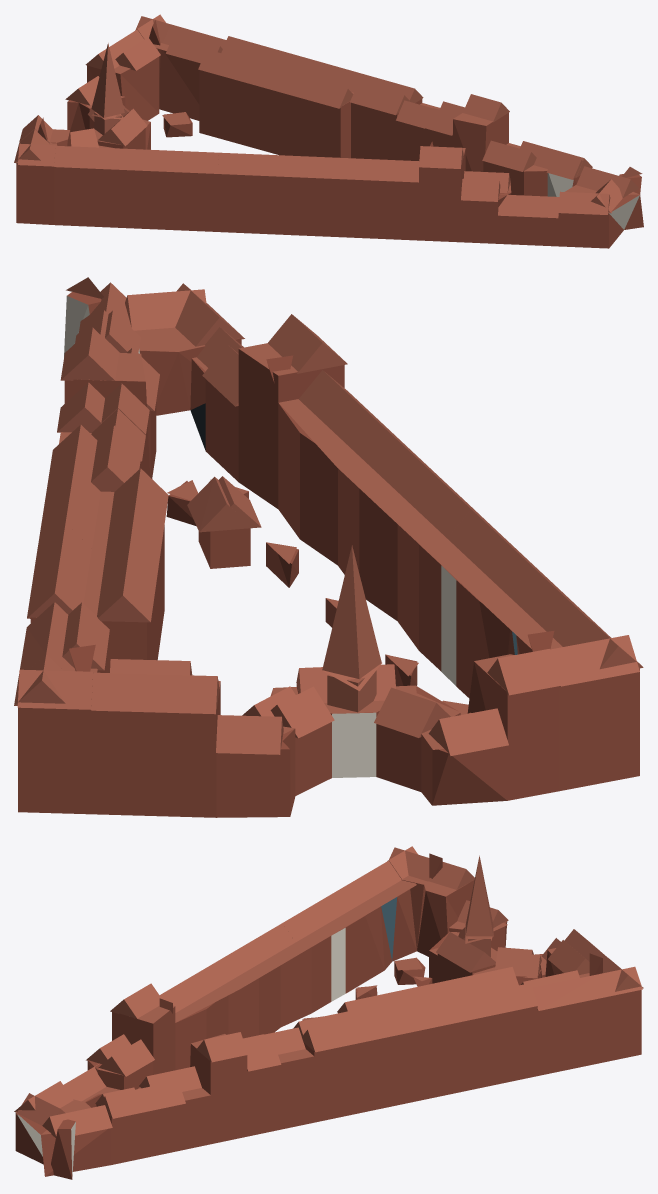
File: het-schip.lod2.glb
The picture shows the model from 3 angles, top to bottom: view 1: azimuth 30°, elevation 25°; view 2: azimuth 150°, elevation 25°; view 3: azimuth 270°, elevation 25°; orthographic projection. The views are drawn at different scales.
Visible parts, largest first — view 1: lod2; view 2: lod2; view 3: lod2.
Part boxes in pixels (x1,y1,x2,y2): lod2: [14, 14, 643, 248]; lod2: [14, 277, 643, 817]; lod2: [14, 846, 643, 1179].
Size of the model in its own units: 105 by 26.19 by 109.
